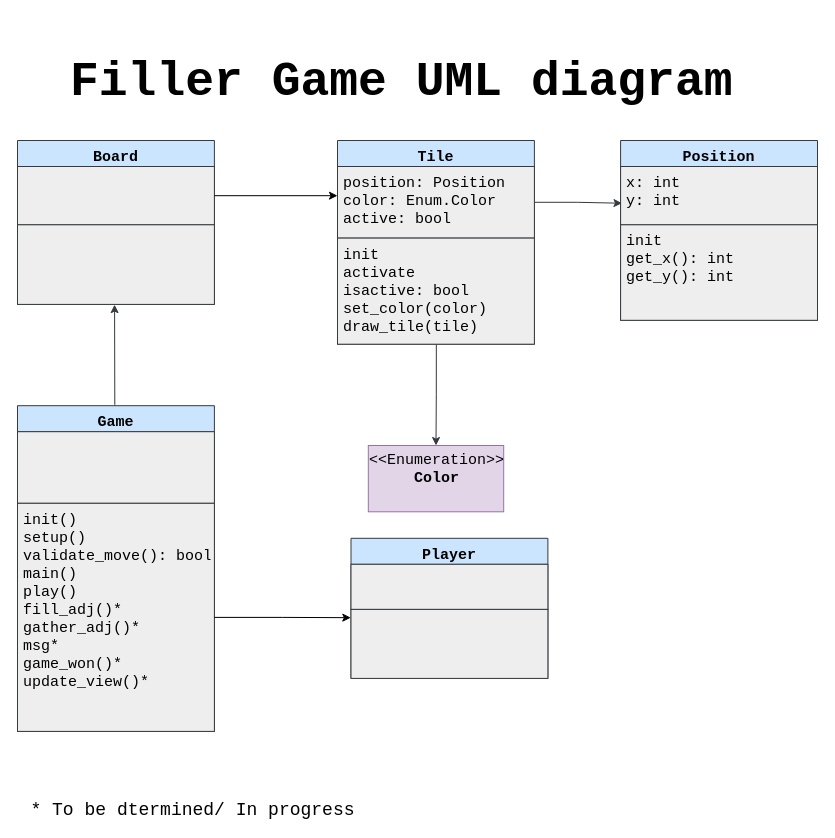
Image size: 835x838. Some labels were removed from this diagram. Each missing label, with the centre of its shape:
"board: Board player: player tkinter*" belongs at point (115, 467).
"init draw_board()" belongs at point (115, 264).
"init set_score(int delta) get_score: int" belongs at point (449, 643).
"name: str score: int" belongs at point (449, 586).
"size: int board[][]: Tile" belongs at point (115, 195).
